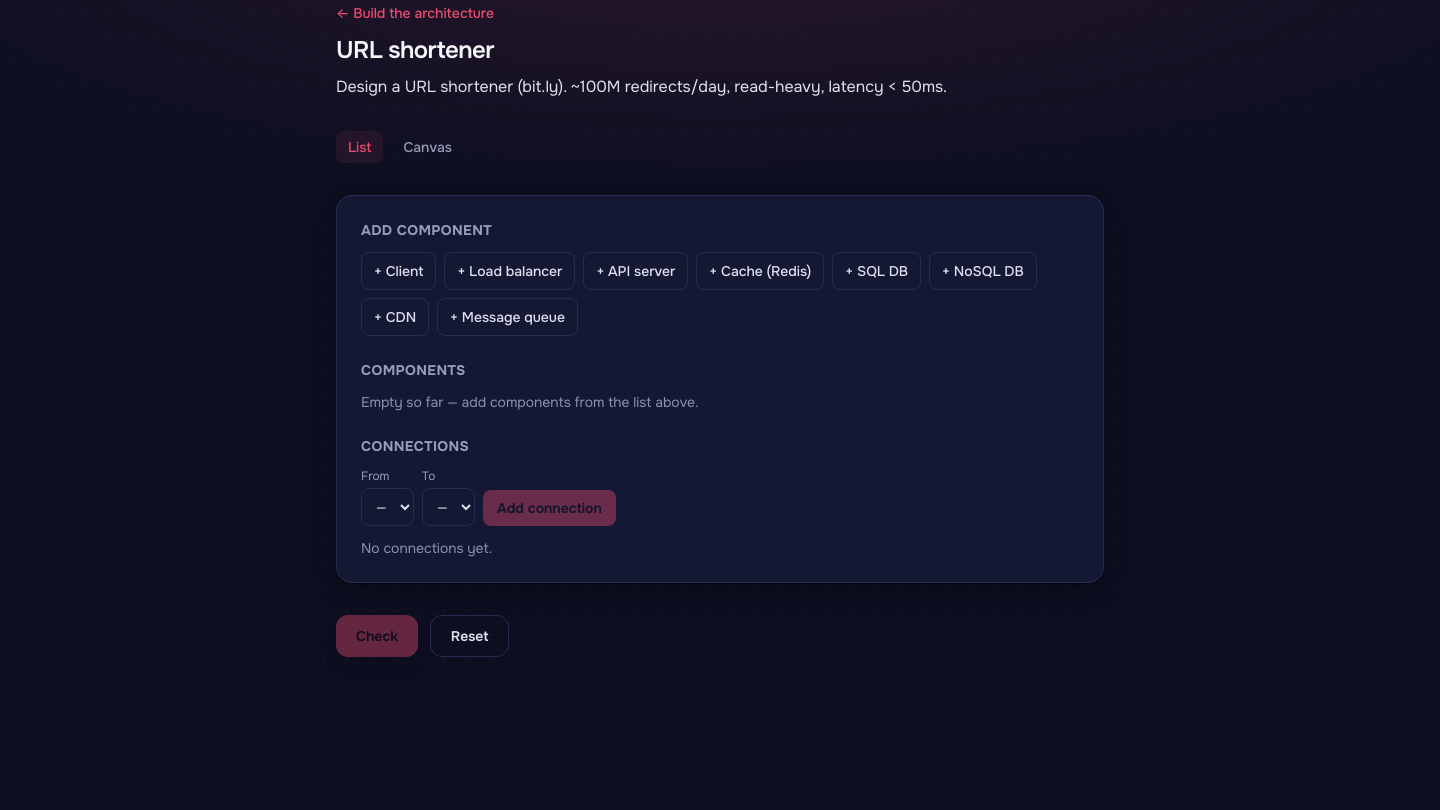
it: Diagram screen › builds a passing diagram and shows an accepted report
The image size is (1440, 810).
Click the button "+ Client". click: (399, 271)
box: [361,252,436,290]
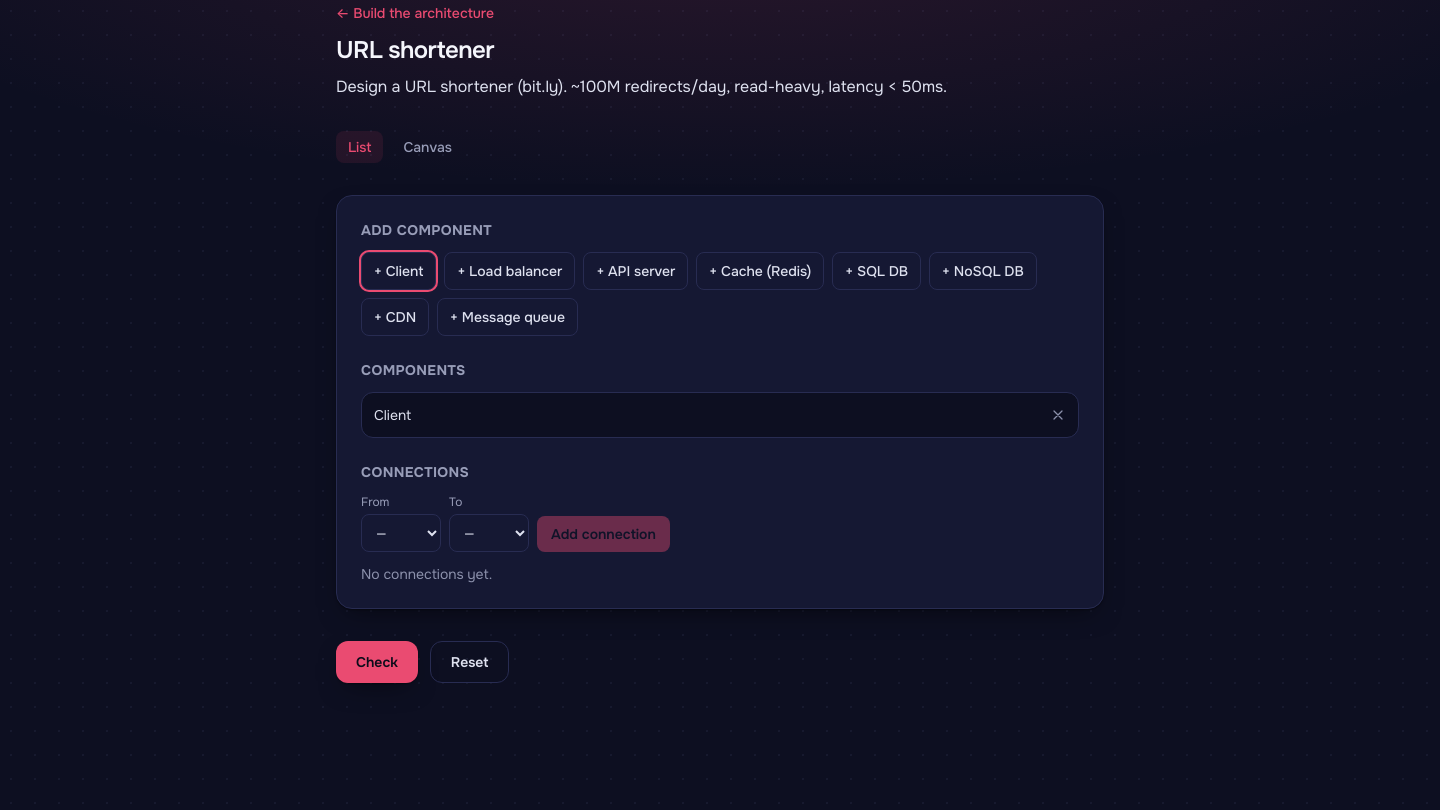
Click the button "+ API server". click: (636, 271)
box: [583,252,688,290]
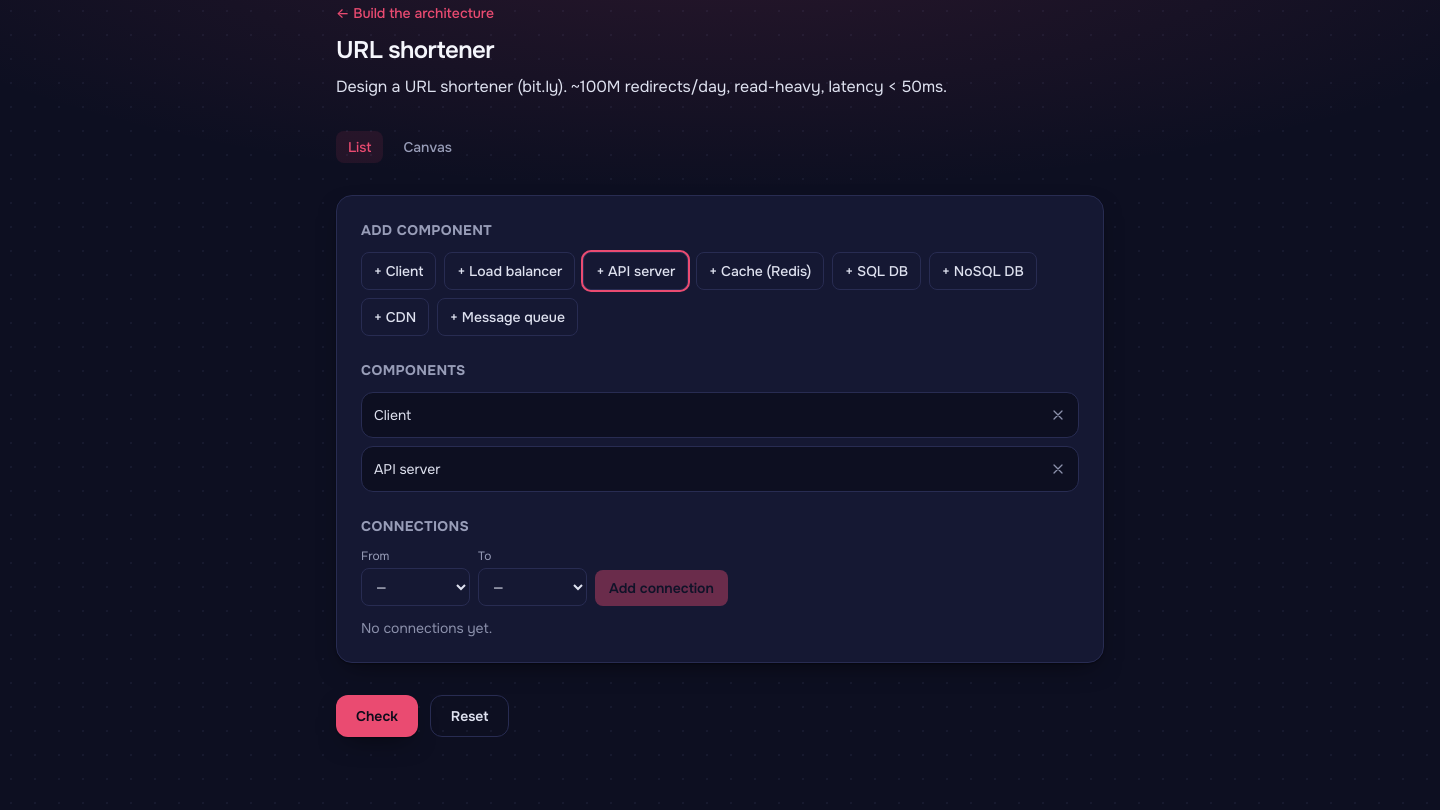
Click the button "+ Cache (Redis)". click: (760, 271)
box: [696,252,824,290]
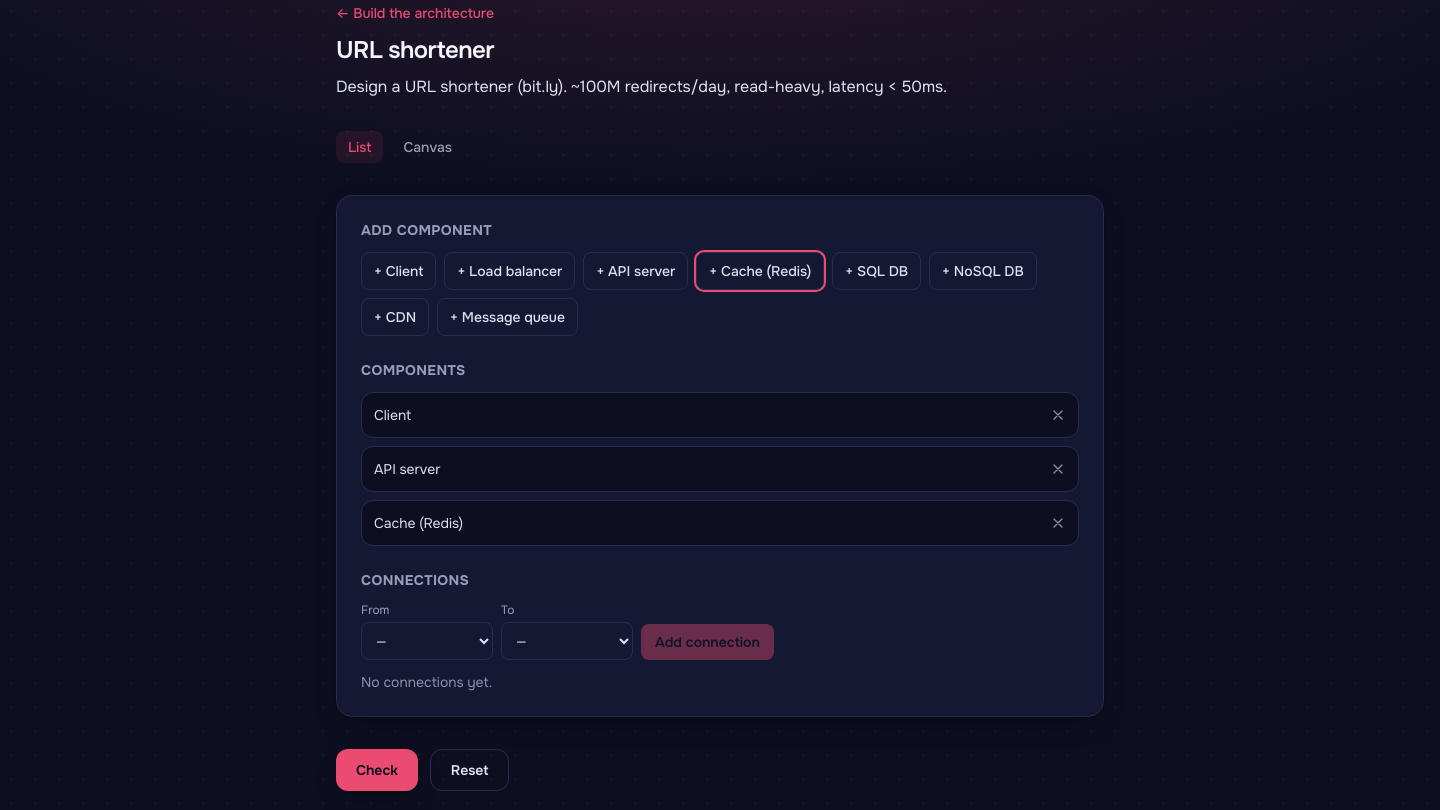
Click the button "+ SQL DB". click: (877, 271)
box: [832,252,921,290]
(page scrolled)
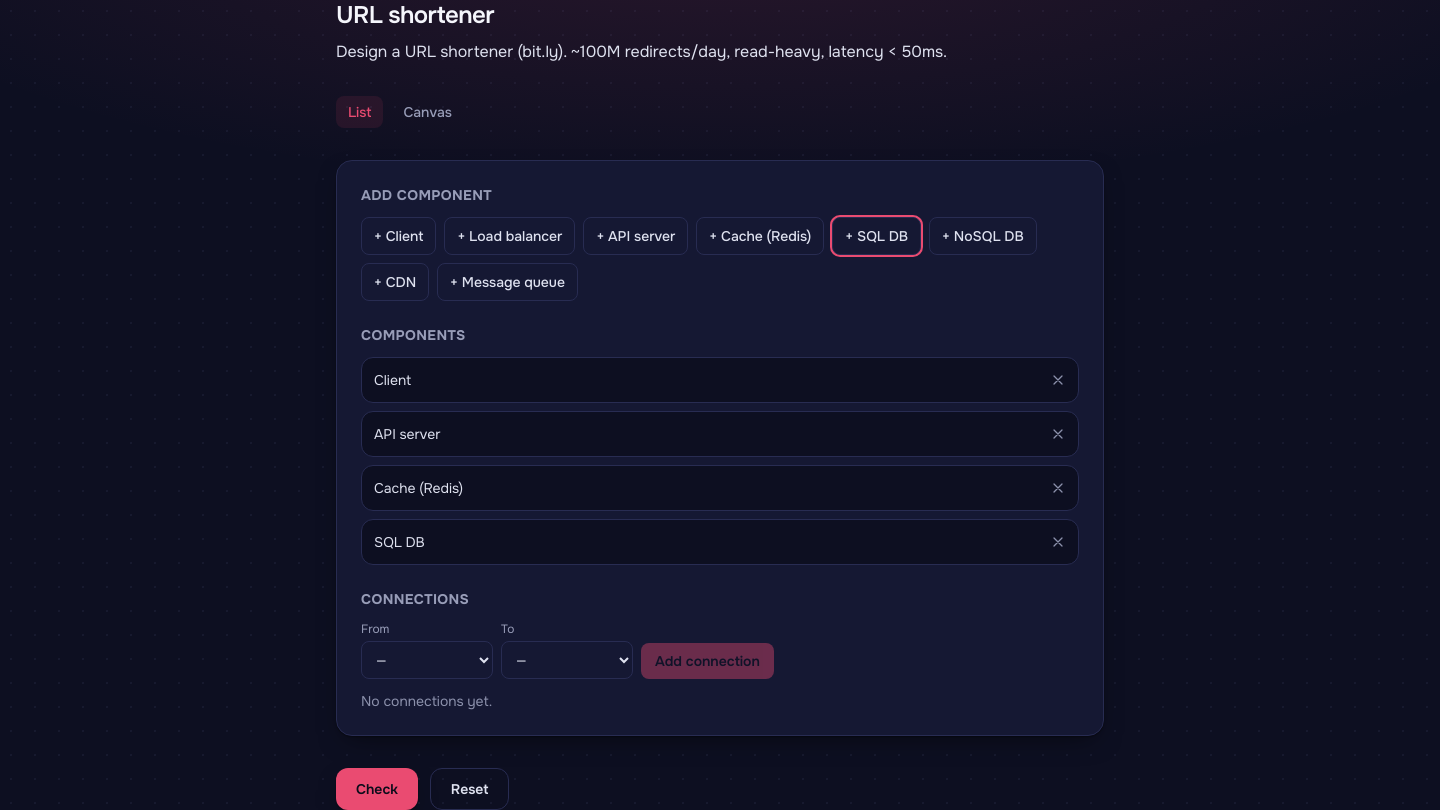
Click the button "Check". click: (377, 789)
box: [336,768,418,809]
(page scrolled)
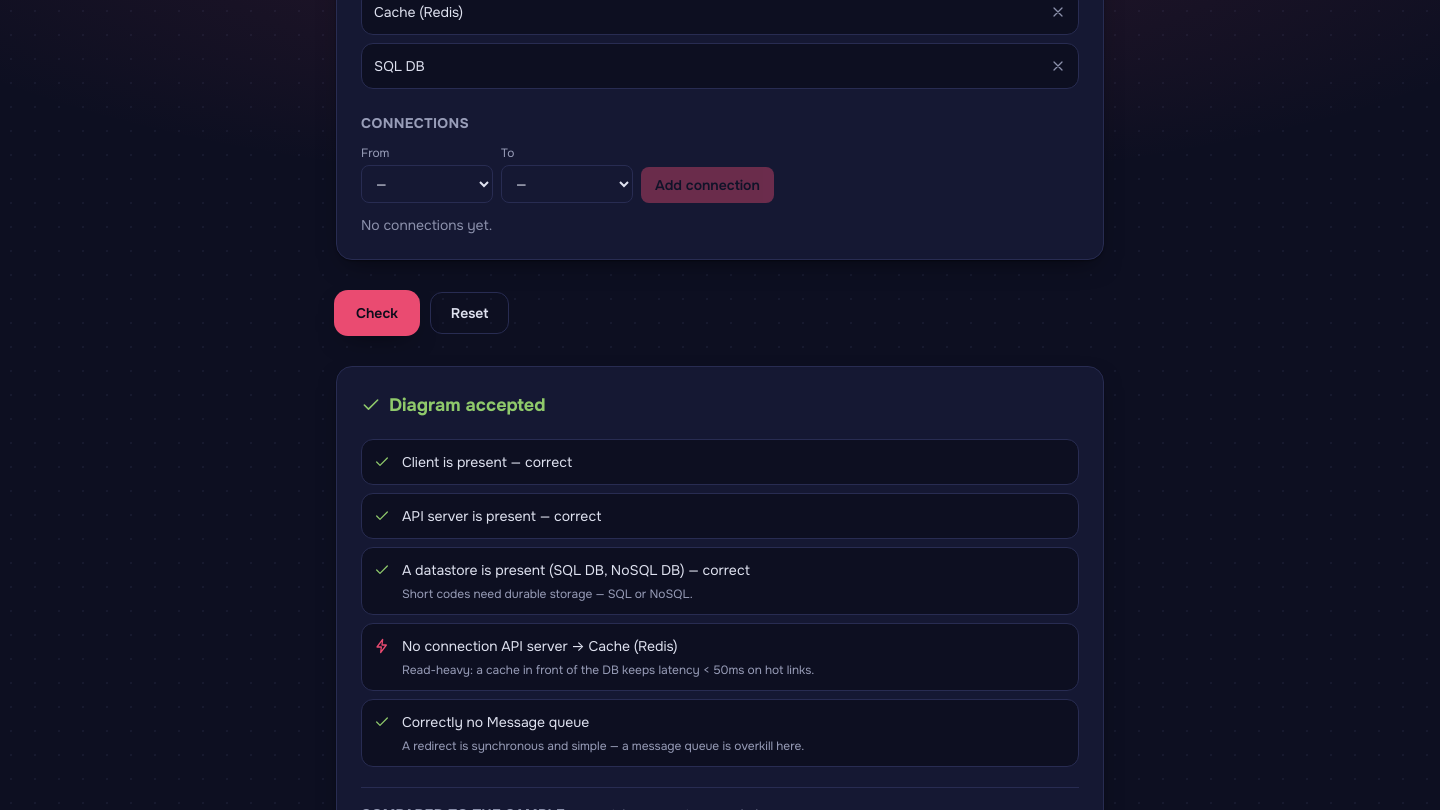
Check: the heading "Diagram accepted" is shown, box [361,394,545,416]
